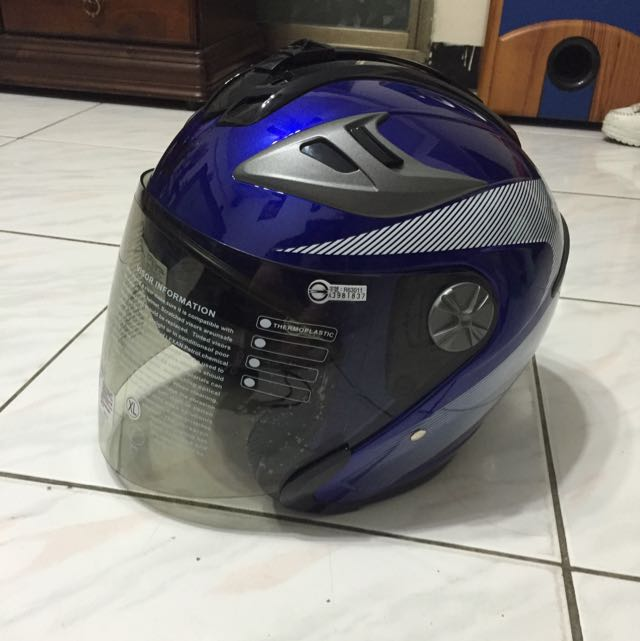helmet: (161, 62, 565, 508)
